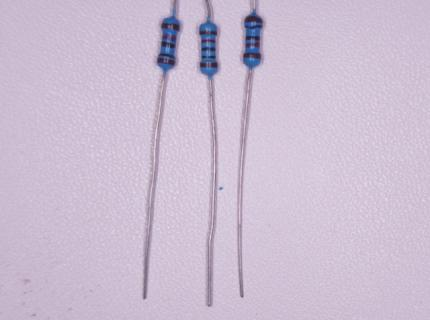Black band: (159, 53, 176, 59), (161, 42, 175, 48), (202, 47, 216, 52), (246, 25, 260, 30), (202, 55, 216, 59), (246, 36, 260, 40)
Brown band: (161, 22, 180, 31), (157, 58, 176, 66), (243, 53, 262, 59), (200, 62, 218, 68), (199, 30, 217, 35), (245, 18, 263, 23)
Red band: (162, 35, 176, 42), (245, 43, 260, 48), (201, 40, 216, 44)
